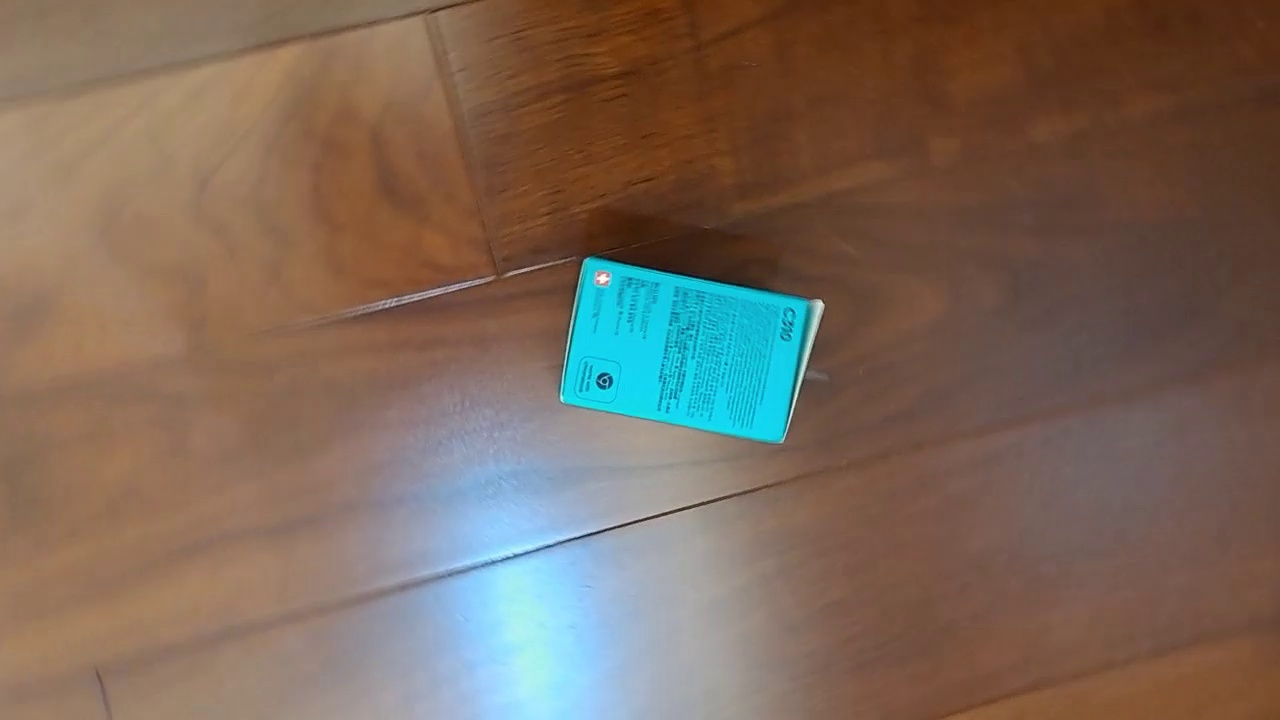webcam: (558, 254, 826, 445)
